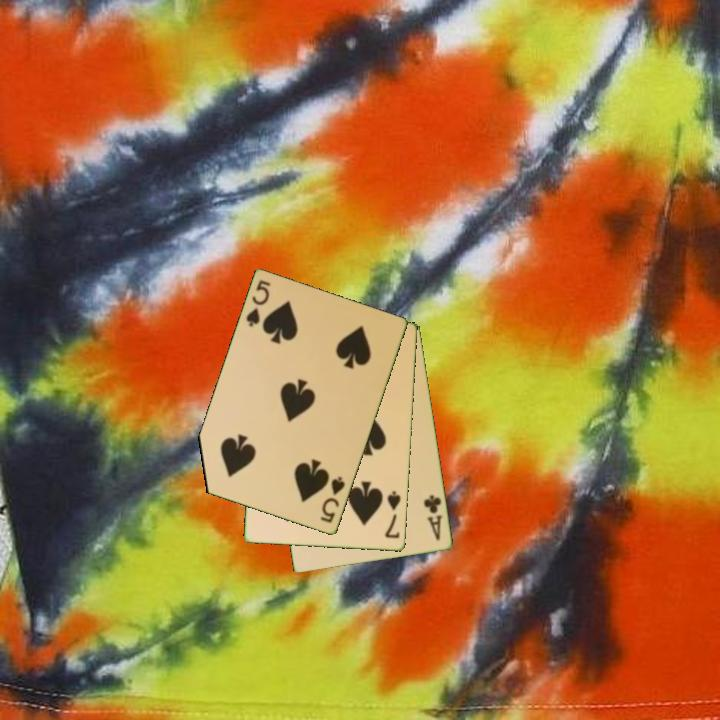5s: (317, 473, 348, 526), (243, 277, 274, 330)
7s: (382, 488, 404, 541)
Ac: (420, 492, 446, 544)
